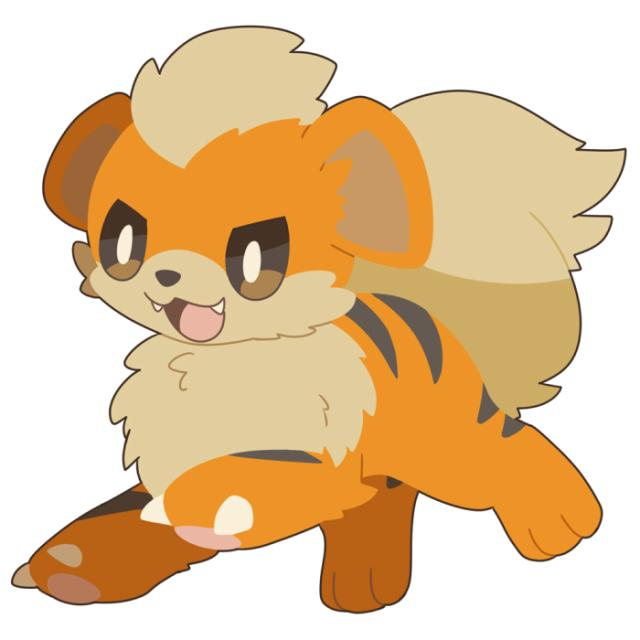Growlithe: (36, 28, 592, 593)
